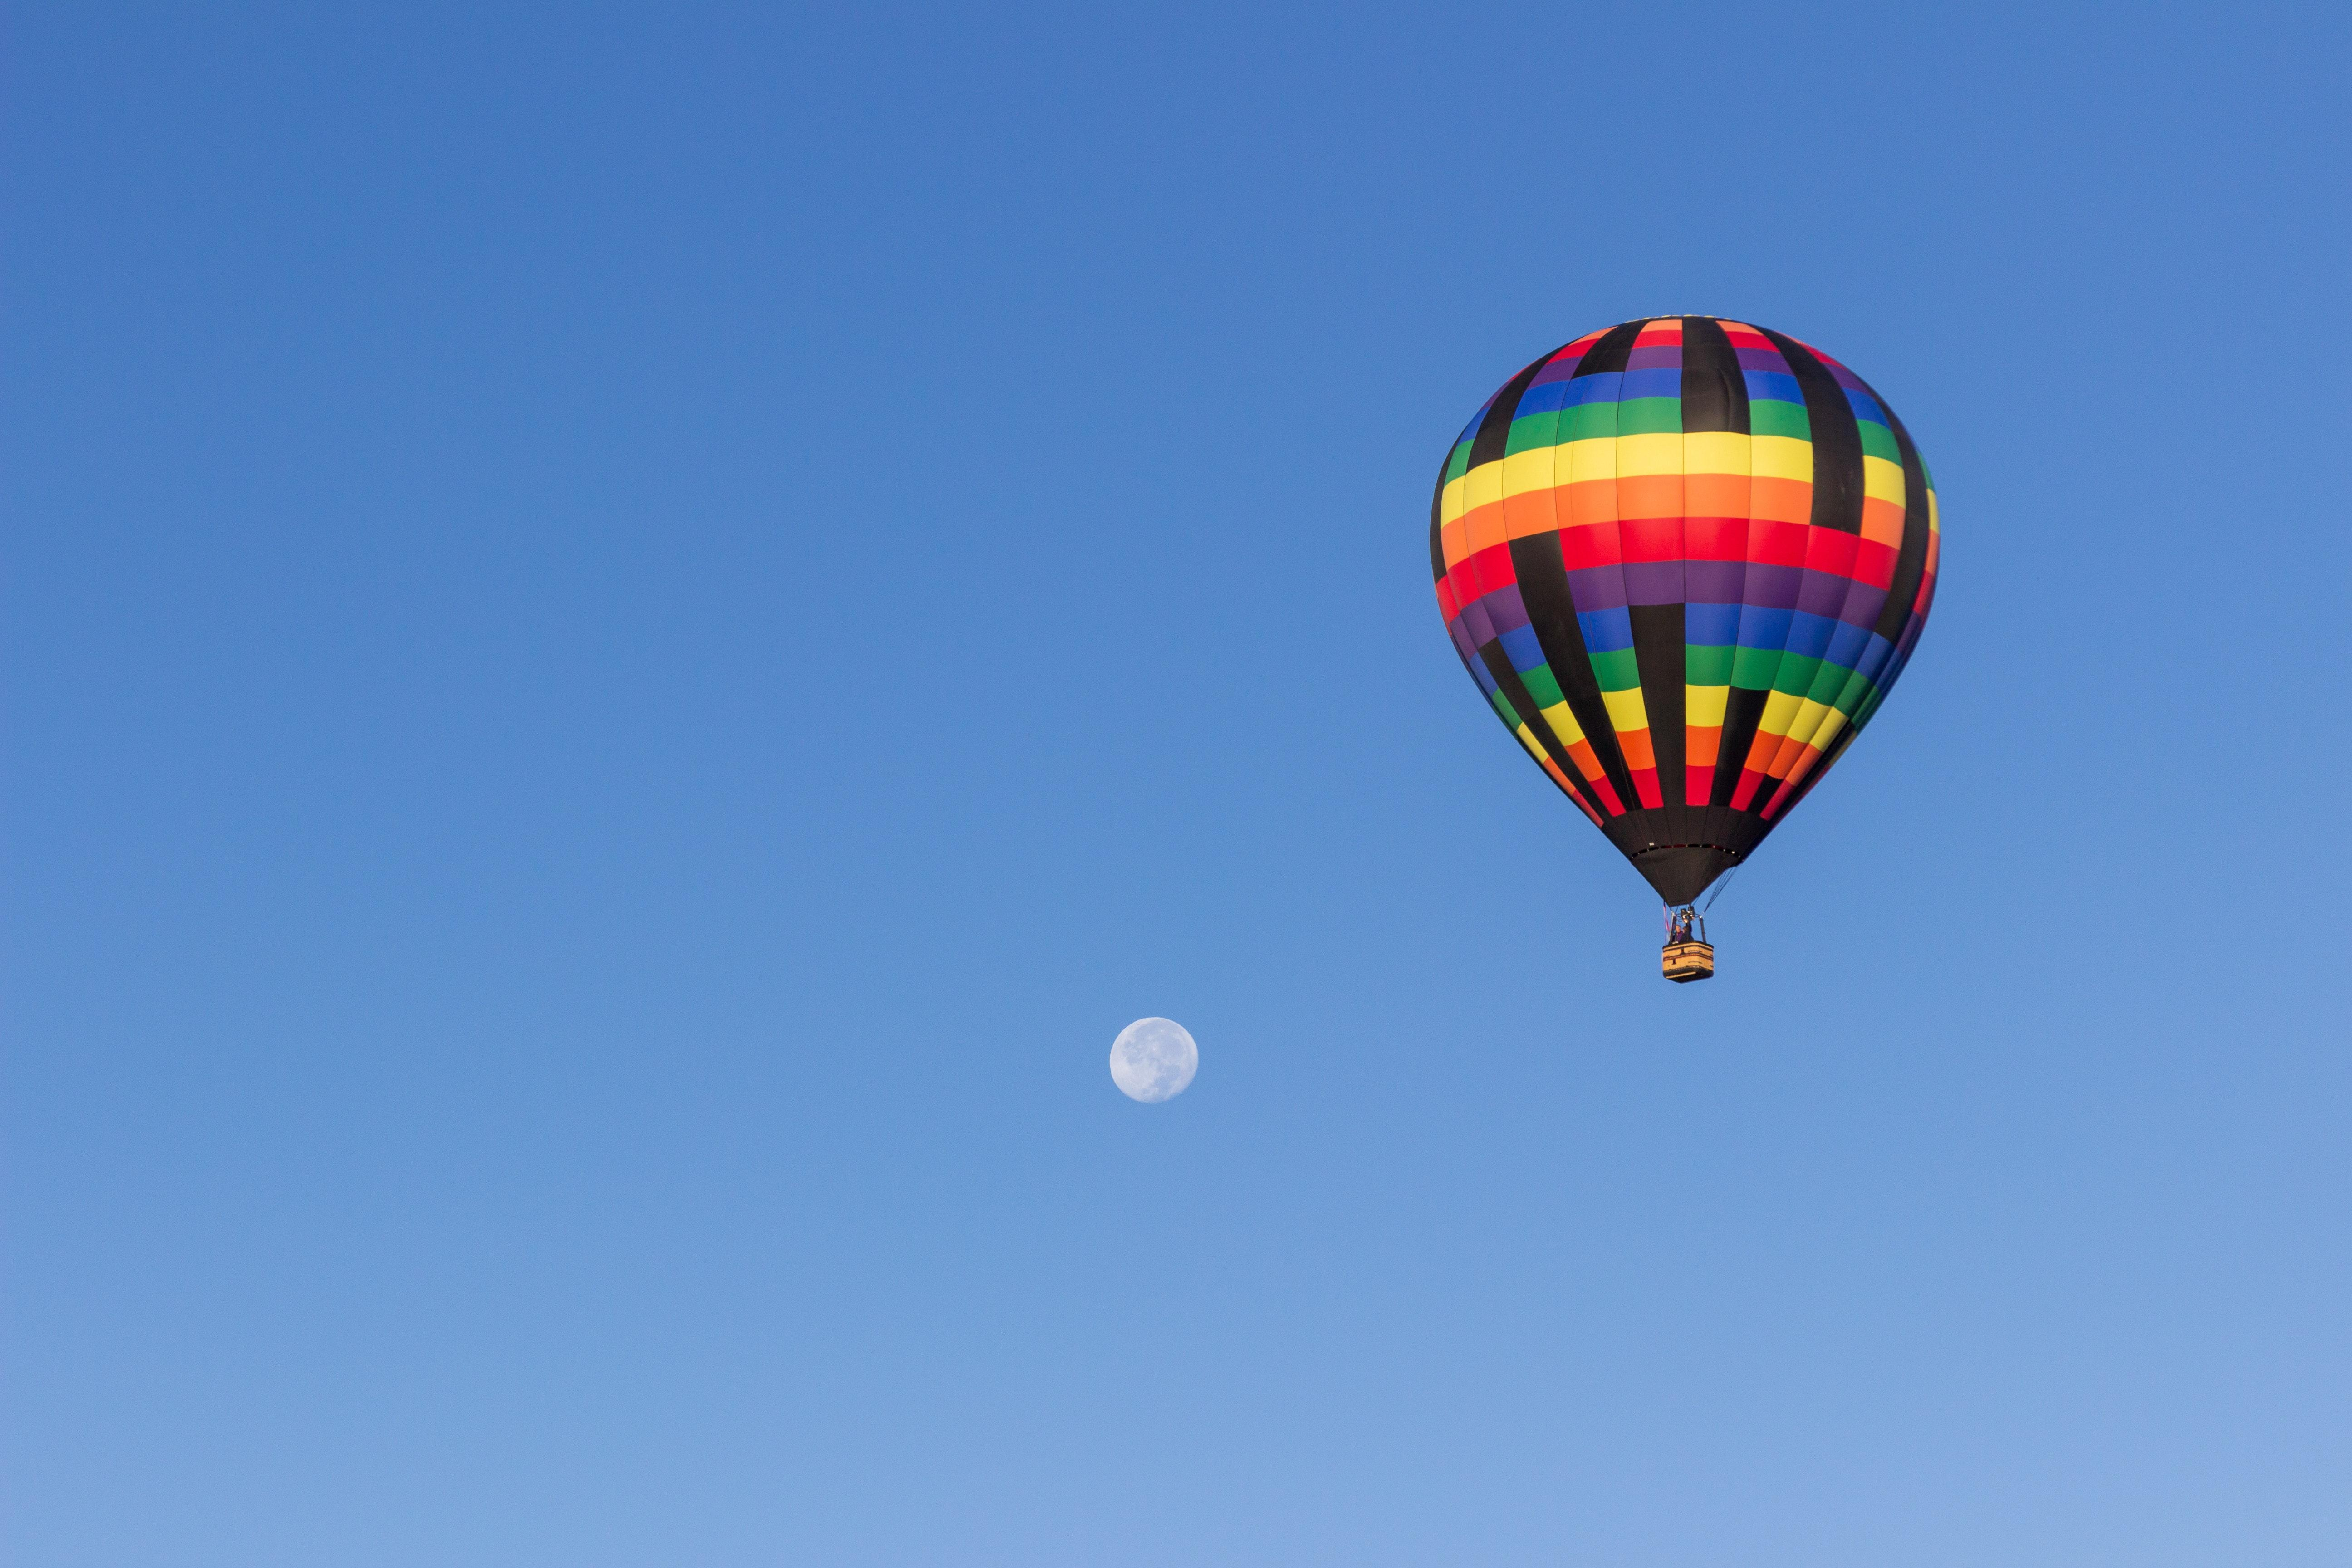hot air ballon: (1432, 317, 1941, 991)
